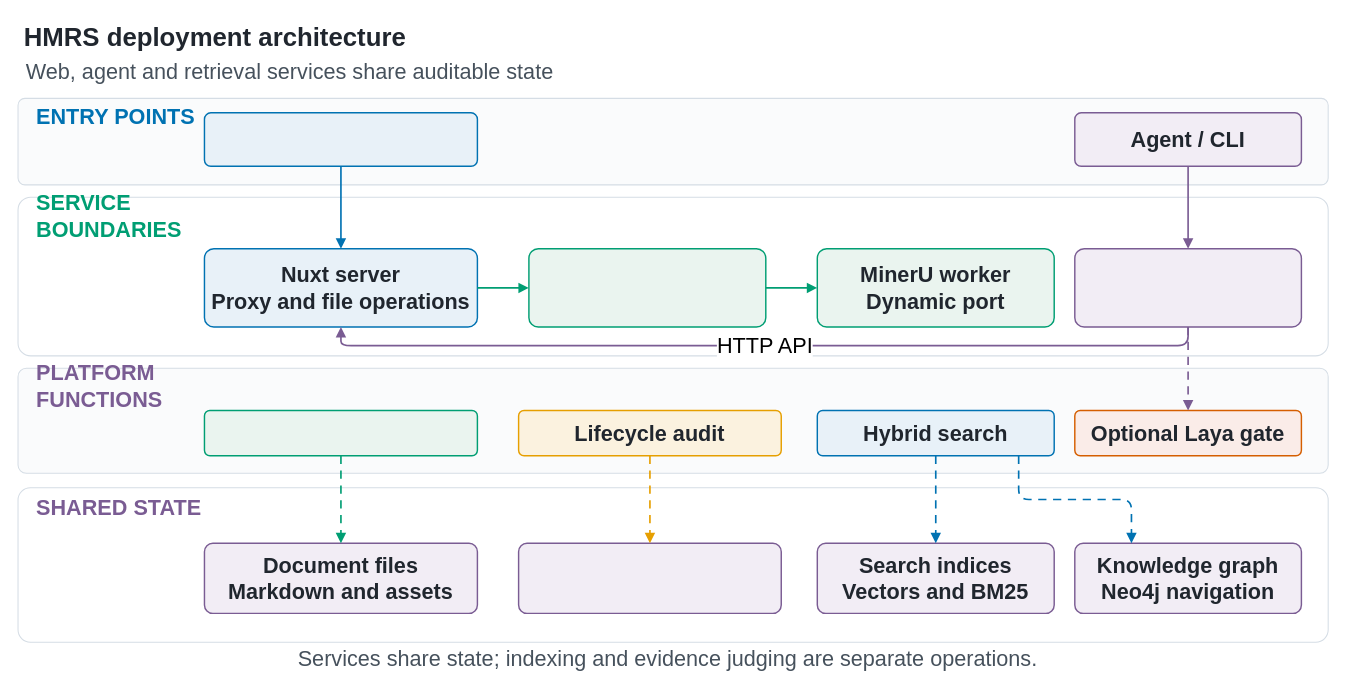
This 1346x689 diagram has some shape labels left out. Each missing label, with the centre of its shape:
"Browser / Web UI" belongs at [340,139].
"FastAPI Async parse tasks" belongs at [647,287].
"Ingest and split" belongs at [340,432].
"MCP server HTTP and local reads" belongs at [1188,287].
"Registries Tree and KB YAML" belongs at [649,578].
